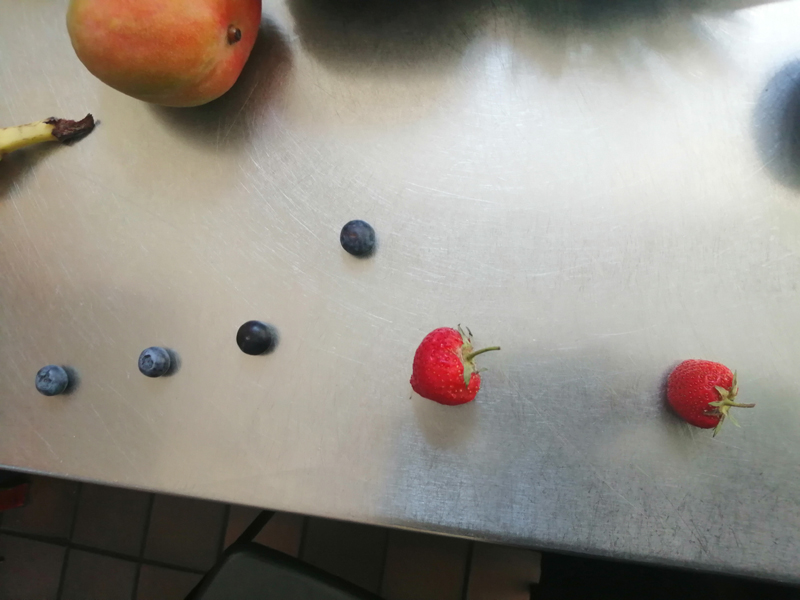blueberry: (221, 314, 288, 362), (132, 334, 173, 389), (331, 216, 383, 258), (33, 361, 67, 397)
strawberry: (653, 343, 762, 447), (408, 318, 503, 406)
